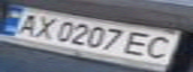0: (48, 18, 75, 44), (84, 24, 109, 51)
2: (69, 20, 90, 47)
7: (103, 26, 130, 54)
A: (6, 10, 45, 36)
C: (139, 34, 184, 61)
E: (121, 29, 160, 57)
X: (24, 14, 60, 39)
